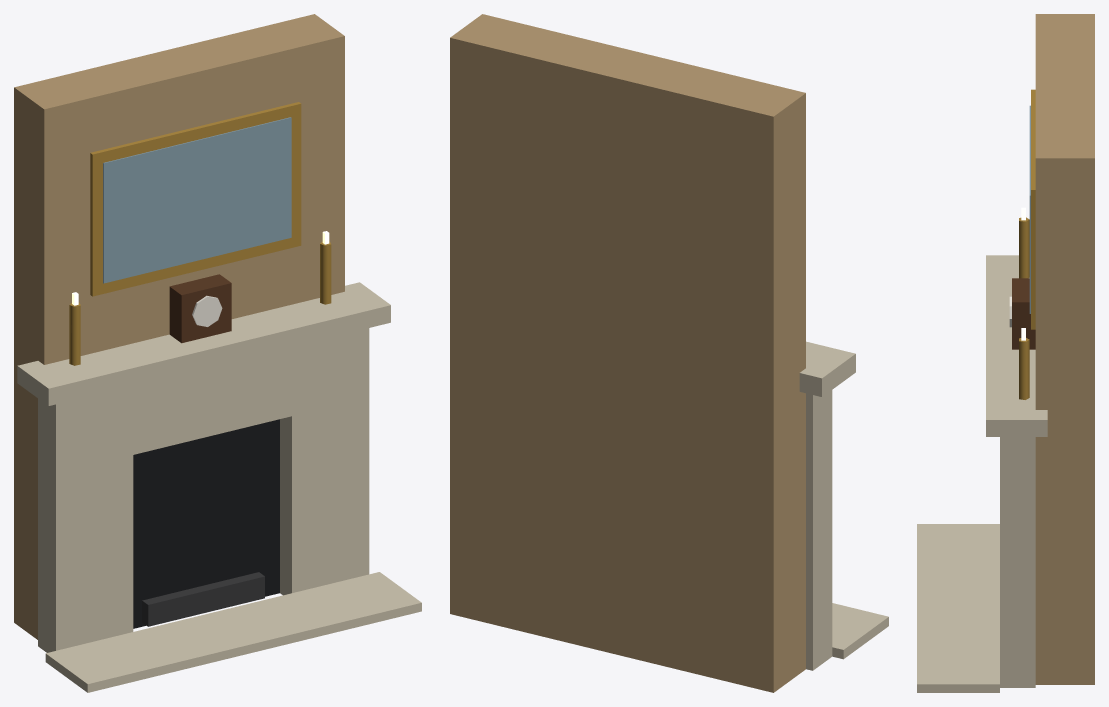
The model's file is fireplace_grand.glb.
3 renders of one model, left to right at view 1: azimuth 30°, elevation 25°; view 2: azimuth 150°, elevation 25°; view 3: azimuth 270°, elevation 25°, orthographic. The views are drawn at different scales.
Visible parts, largest first — view 1: fireplace_grand; view 2: fireplace_grand; view 3: fireplace_grand.
Boxes of the visible parts, left/top/right/bottom form: fireplace_grand: left=14, top=14, right=421, bottom=692; fireplace_grand: left=450, top=14, right=888, bottom=692; fireplace_grand: left=917, top=14, right=1094, bottom=692.
Bounding box in the file's own units: 1.64 × 2.45 × 0.75.
1 material, 1 textured.
